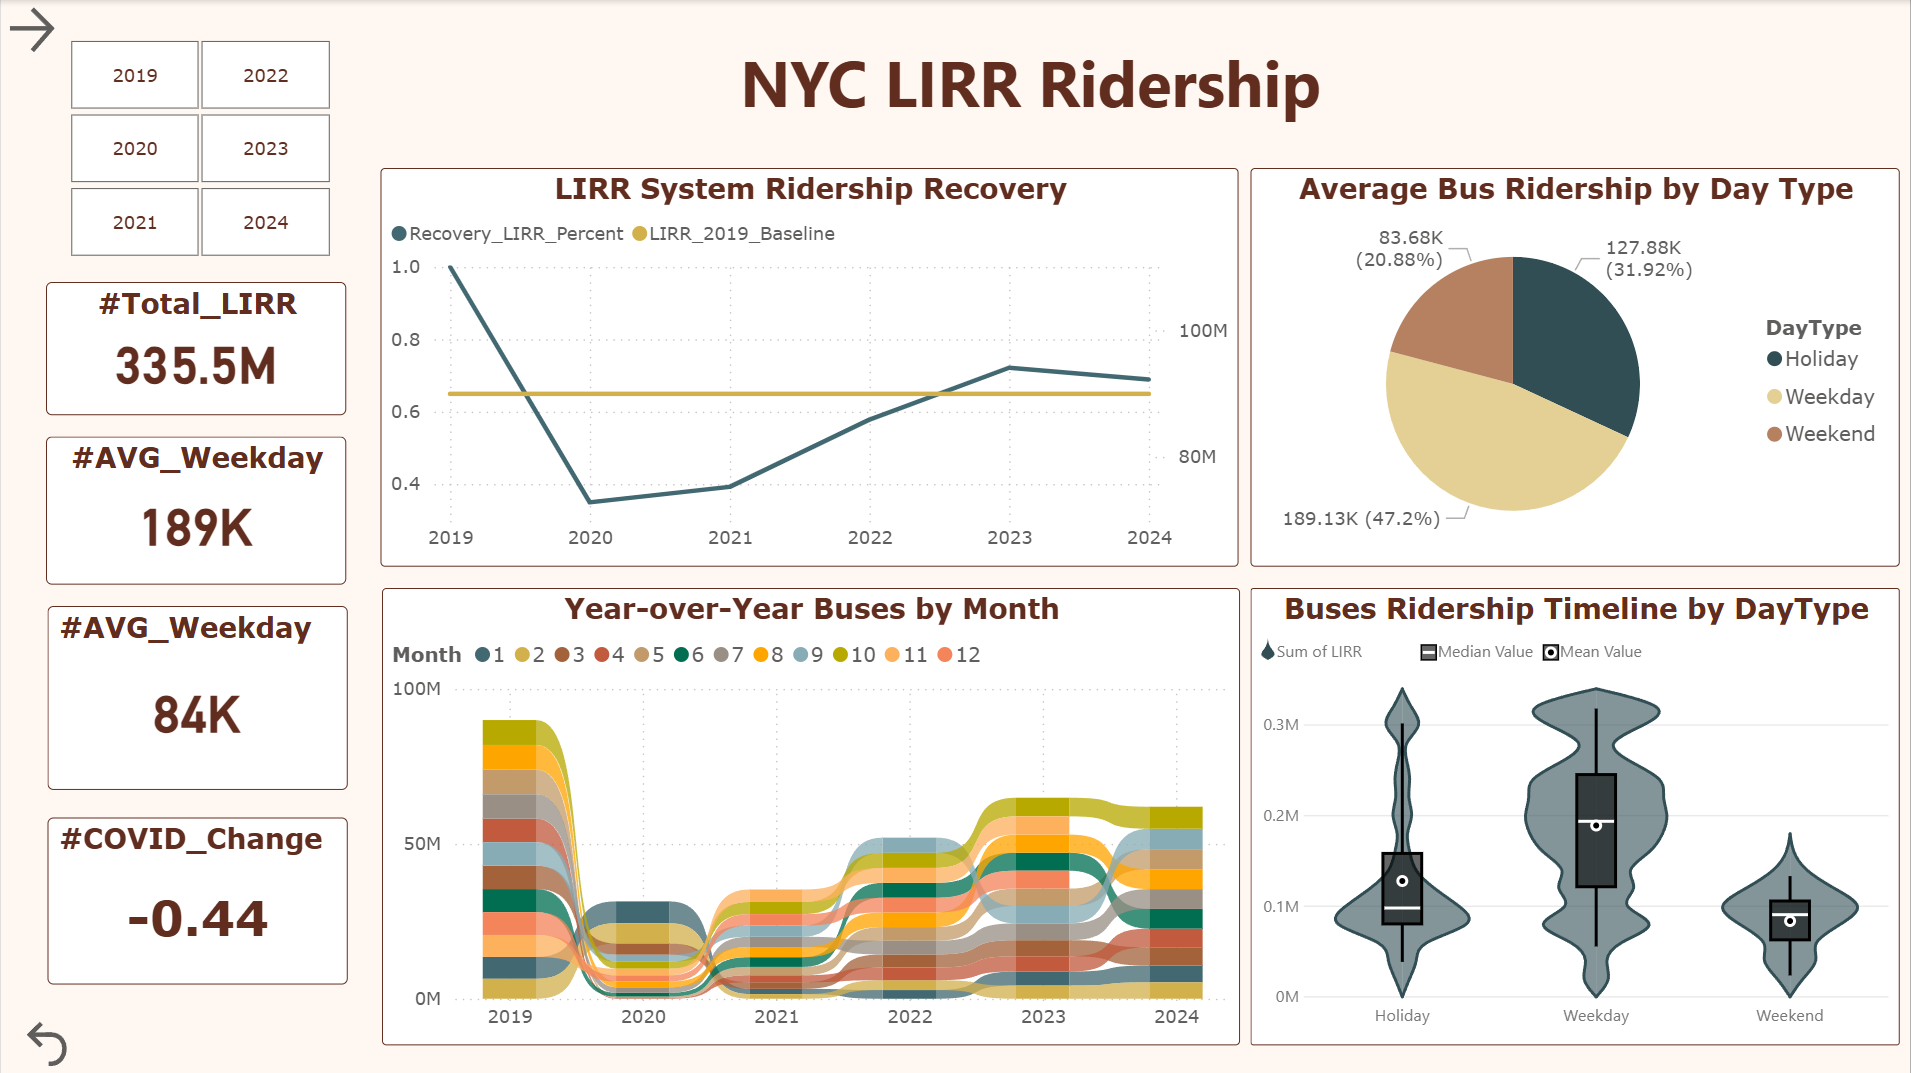

The page's visual inventory and layout, read from the dashboard file:
{"tool":"powerbi","page":{"name":"LIRR","canvas":[1280,720],"ordinal":3},"visuals":[{"type":"advanceCardE03760C5AB684758B56AA29F9E6C257B","title":"#Total_LIRR","fields":{"mainMeasure":["Sum(Final.LIRR)"]},"box":[30.7,189,201.2,89.6],"z":0},{"type":"advanceCardE03760C5AB684758B56AA29F9E6C257B","title":"#AVG_Weekday","fields":{"mainMeasure":["Final.Avg_Weekday_LIRR"]},"box":[30.7,292.8,201.2,99.4],"z":1000},{"type":"advanceCardE03760C5AB684758B56AA29F9E6C257B","title":"#AVG_Weekday","fields":{"mainMeasure":["Final.Avg_Weekend_LIRR"]},"box":[31.4,406.6,201.5,123.1],"z":2000},{"type":"card","title":"#COVID_Change","fields":{"Values":["Final.COVID_Change_Percent_LIRR"]},"box":[31.4,547.7,201.5,112.2],"z":3000},{"type":"slicer","fields":{"Values":["Final.Date.Variation.Date Hierarchy.Year"]},"box":[20.9,19.6,223.3,158.3],"z":4000},{"type":"textbox","box":[354.6,19.6,682.2,93.3],"z":5000},{"type":"lineChart","title":"LIRR System Ridership Recovery","fields":{"Category":["Final.Date.Variation.Date Hierarchy.Year","Final.Date.Variation.Date Hierarchy.Quarter","Final.Date.Variation.Date Hierarchy.Month","Final.Date.Variation.Date Hierarchy.Day"],"Y":["Final.Recovery_LIRR_Percent"],"Y2":["Final.LIRR_2019_Baseline"]},"box":[254,112.9,575.5,267.5],"z":6000},{"type":"pieChart","title":"Average Bus Ridership by Day Type","fields":{"Category":["Final.DayType"],"Y":["Final.Avg_Holiday_LIRR","Final.Avg_Weekday_LIRR","Final.Avg_Weekend_LIRR"]},"box":[838,112.9,435.6,267.5],"z":7000},{"type":"ribbonChart","title":"Year-over-Year Buses by Month","fields":{"Category":["Final.Year"],"Series":["Final.Month"],"Y":["Final.Total LIRR"]},"box":[255.2,393.9,575.5,306.8],"z":8000},{"type":"violinPlot4D46EB9EB3A141D9BA2289793175D971","title":"Buses Ridership Timeline by DayType","fields":{"category":["Final.DayType"],"sampling":["Final.Date"],"measure":["Sum(Final.LIRR)"]},"box":[838,393.9,435.6,306.8],"z":9000},{"type":"actionButton","box":[0,0,100,40],"z":10000},{"type":"actionButton","box":[10.9,680.2,100.1,39.8],"z":11000}]}

Visuals, with their boxes in screenshot pixels (x1, y1, x2, y2), scaled from the page's 1280x720 canvas onto the 1911x1073 screenshot:
"#Total_LIRR" advanceCardE03760C5AB684758B56AA29F9E6C257B: <region>46, 282, 346, 415</region>
"#AVG_Weekday" advanceCardE03760C5AB684758B56AA29F9E6C257B: <region>46, 436, 346, 584</region>
"#AVG_Weekday" advanceCardE03760C5AB684758B56AA29F9E6C257B: <region>47, 606, 348, 789</region>
"#COVID_Change" card: <region>47, 816, 348, 983</region>
slicer - Final.Date.Variation.Date Hierarchy.Year: <region>31, 29, 365, 265</region>
textbox: <region>529, 29, 1548, 168</region>
"LIRR System Ridership Recovery" lineChart: <region>379, 168, 1238, 567</region>
"Average Bus Ridership by Day Type" pieChart: <region>1251, 168, 1901, 567</region>
"Year-over-Year Buses by Month" ribbonChart: <region>381, 587, 1240, 1044</region>
"Buses Ridership Timeline by DayType" violinPlot4D46EB9EB3A141D9BA2289793175D971: <region>1251, 587, 1901, 1044</region>
actionButton: <region>0, 0, 149, 60</region>
actionButton: <region>16, 1014, 166, 1072</region>
